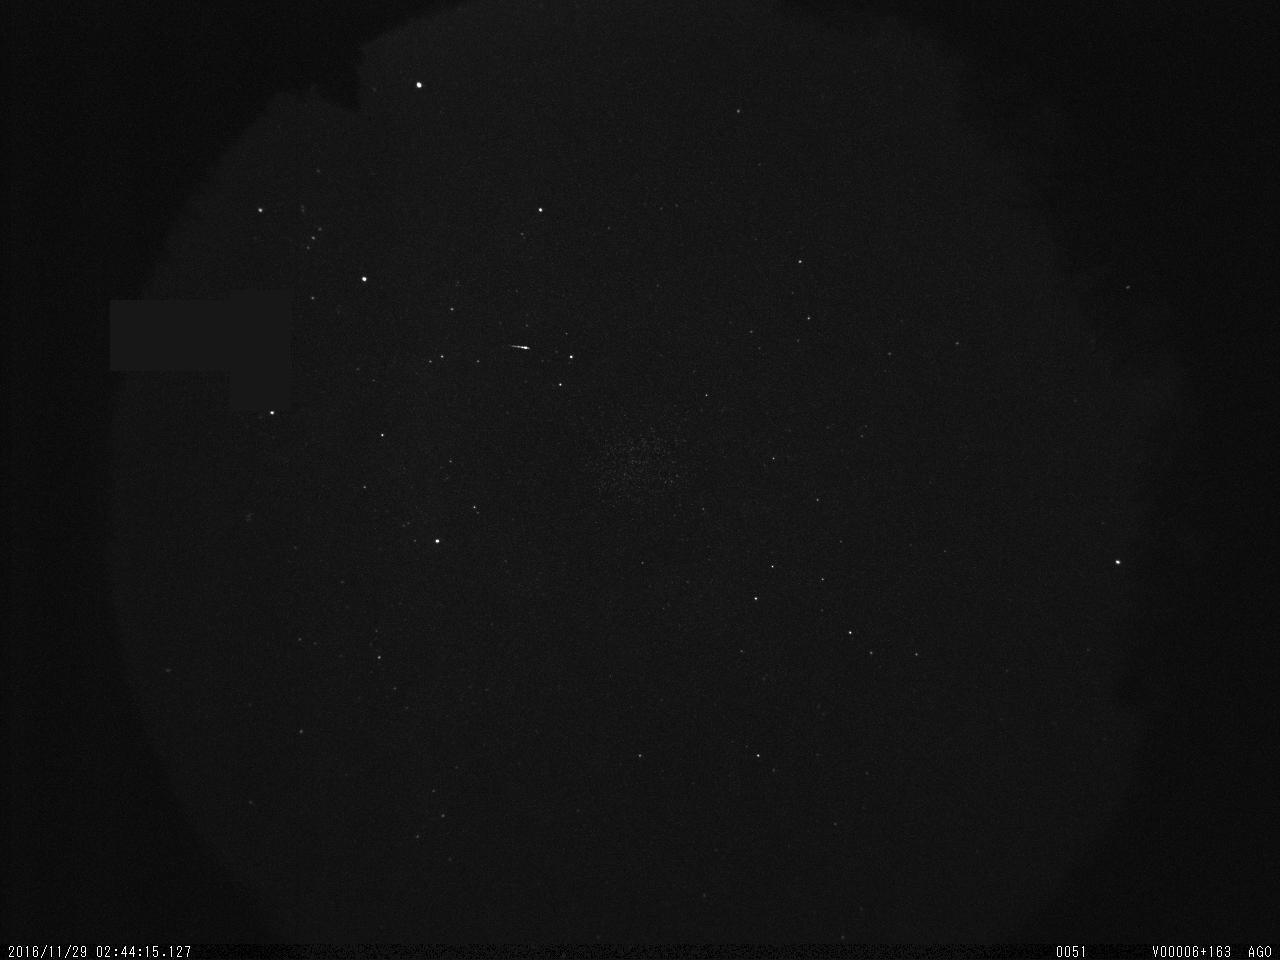meteor: (507, 336, 536, 362)
